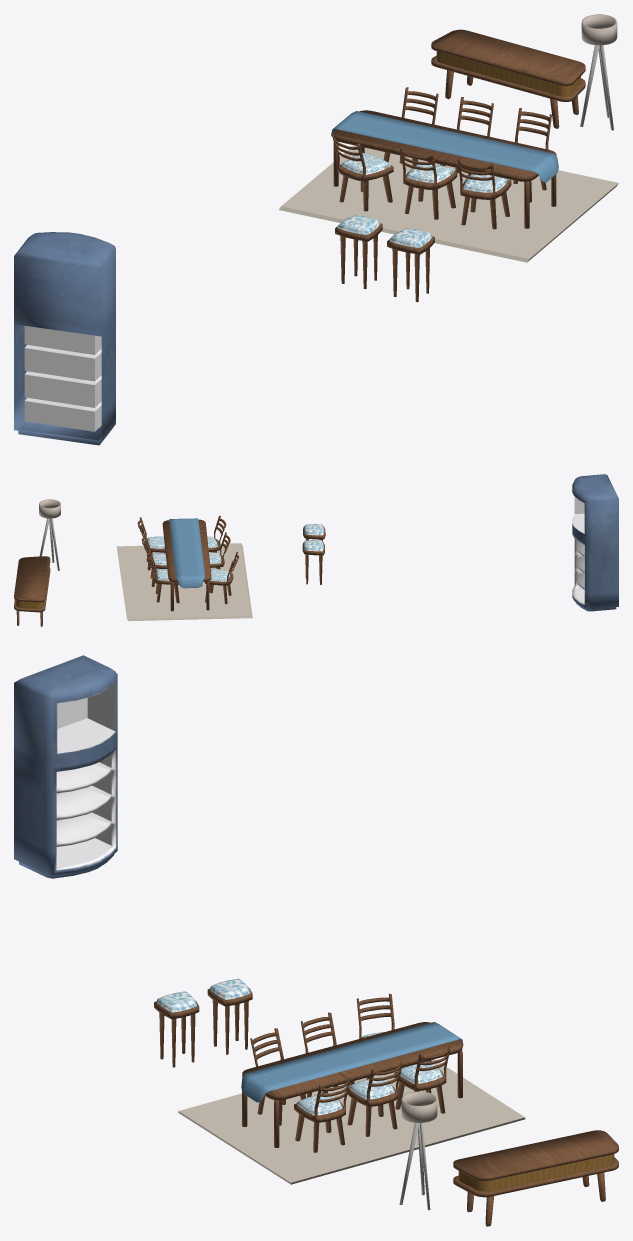
File: mesh_80_kitchen_1.glb
3 renders of one model, top to bottom at view 1: azimuth 30°, elevation 25°; view 2: azimuth 150°, elevation 25°; view 3: azimuth 270°, elevation 25°, orthographic. The views are drawn at different scales.
Parts seen in each view (by area): view 1: mesh_80_kitchen_1; view 2: mesh_80_kitchen_1; view 3: mesh_80_kitchen_1.
Boxes of the visible parts, box(x1,y1,x2,y2) form: mesh_80_kitchen_1: box(14, 14, 618, 445); mesh_80_kitchen_1: box(14, 474, 618, 626); mesh_80_kitchen_1: box(14, 655, 618, 1226).
Size of the model in its own units: 9.92 by 2.42 by 6.68.
1 material, 1 textured.
